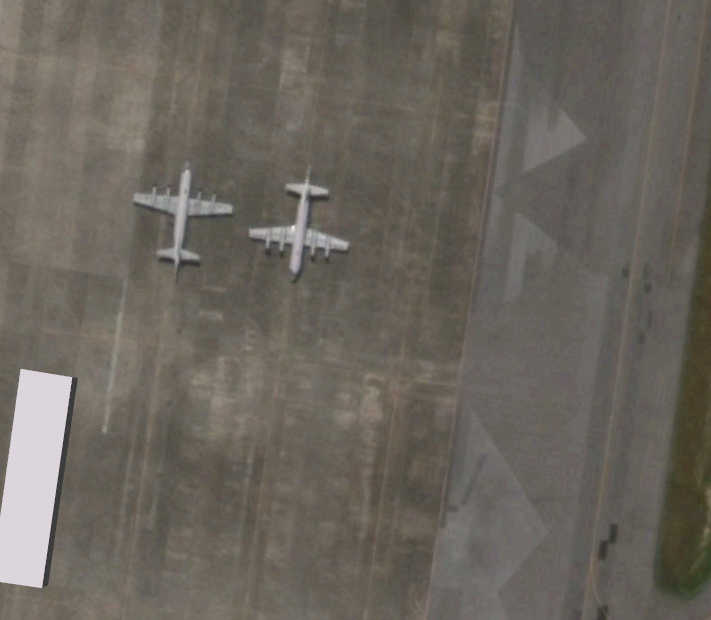A9: (128, 158, 236, 285), (245, 156, 353, 283)
